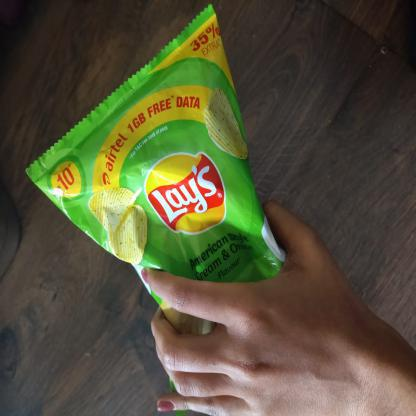cream_and_onion: (23, 4, 284, 303)
